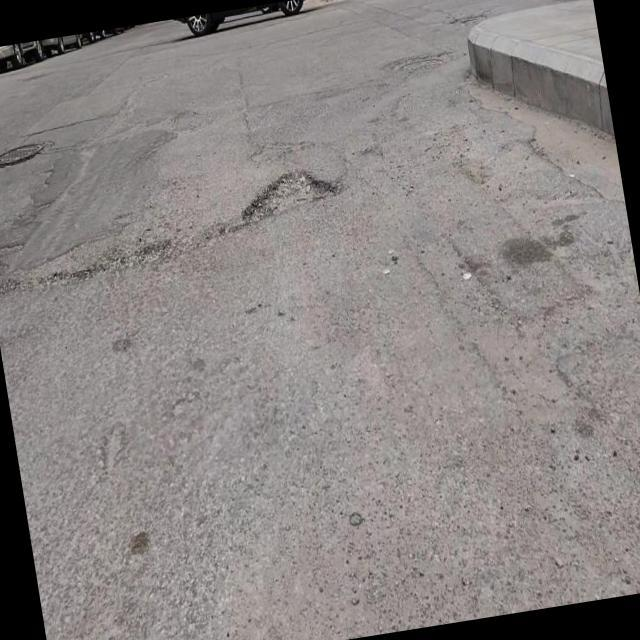Pothole: (248, 172, 331, 221)
